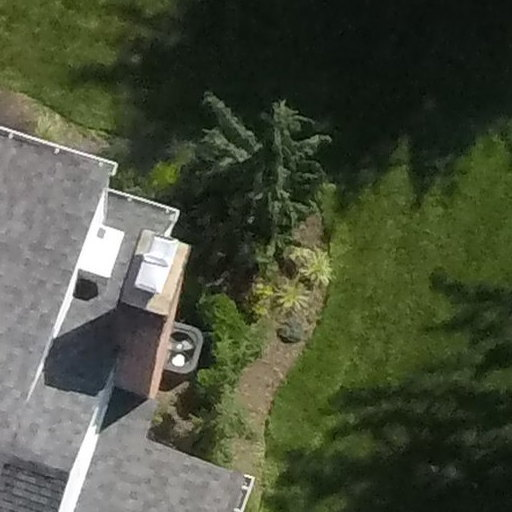air conditioner: (149, 317, 208, 379)
